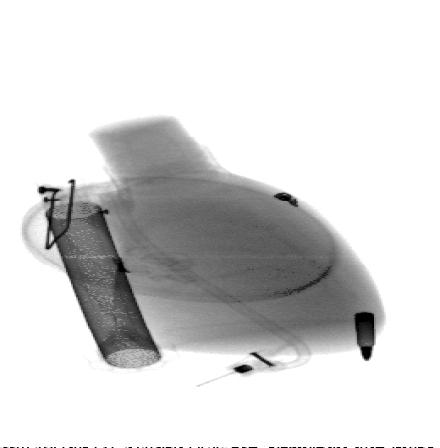Bullet: (353, 310, 376, 362)
